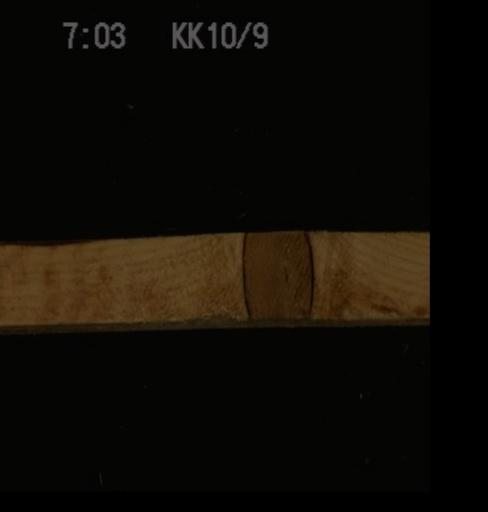edge_knot: (237, 227, 314, 324)
